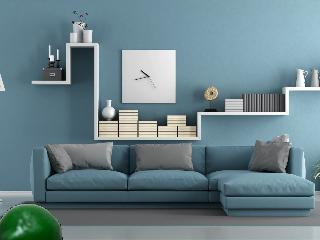lime: (0, 204, 64, 239)
